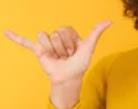clockwise: (5, 18, 115, 74)
